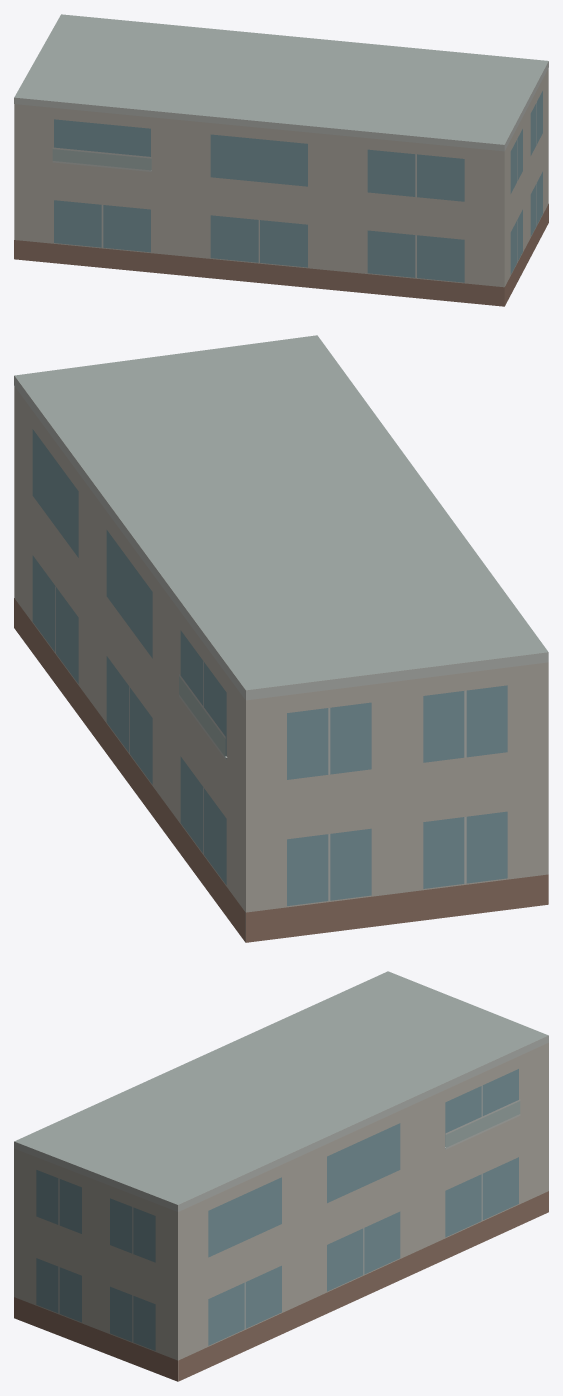
File: survey-upis-32715871.glb
3 views of the same model, one above another, from view 1: azimuth 30°, elevation 25°; view 2: azimuth 150°, elevation 25°; view 3: azimuth 270°, elevation 25° (orthographic). The views are drawn at different scales.
Visible parts, largest first — view 1: survey-upis-32715871.tmp; view 2: survey-upis-32715871.tmp; view 3: survey-upis-32715871.tmp.
Part boxes in pixels (<box>): survey-upis-32715871.tmp: <box>14,14,548,306</box>; survey-upis-32715871.tmp: <box>14,335,548,942</box>; survey-upis-32715871.tmp: <box>14,971,548,1381</box>.
Bounding box in the file's own units: 17.32 × 6.1 × 16.74.
